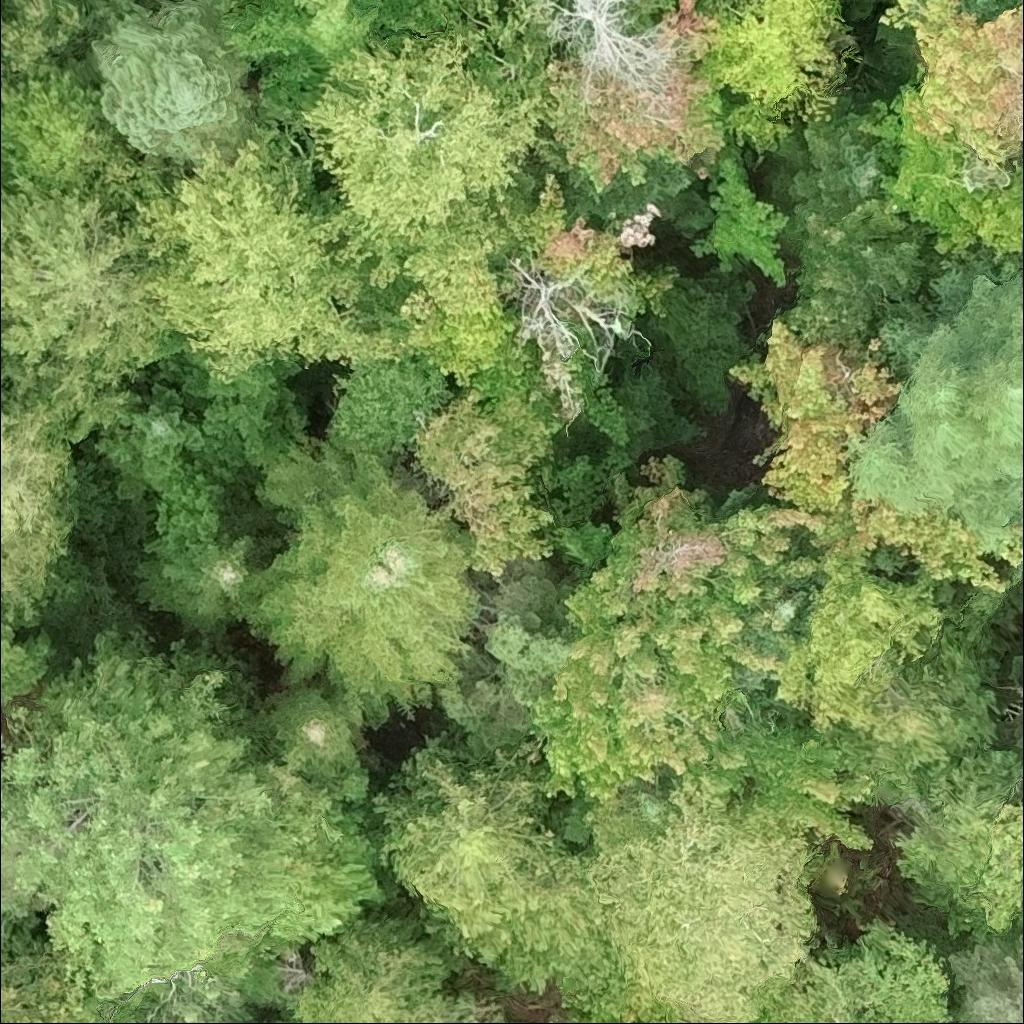crown: (0, 624, 399, 1001), (523, 450, 820, 808), (131, 122, 410, 384), (241, 438, 483, 732), (301, 29, 544, 312), (584, 767, 819, 1023), (843, 247, 1023, 561), (0, 161, 180, 449), (516, 0, 728, 197), (367, 728, 563, 939), (731, 318, 900, 517), (760, 566, 944, 743), (89, 0, 276, 172), (230, 0, 468, 129), (857, 93, 1023, 271), (411, 384, 561, 577), (766, 199, 935, 362), (502, 171, 681, 316), (703, 0, 858, 160), (873, 0, 1023, 165), (757, 916, 958, 1023), (787, 497, 1006, 591), (0, 386, 83, 630), (734, 715, 879, 854), (283, 910, 453, 1023), (762, 97, 895, 217), (0, 52, 117, 188), (689, 146, 793, 288), (92, 381, 205, 508), (134, 531, 261, 637), (405, 280, 518, 394), (248, 683, 368, 788), (553, 0, 674, 88), (950, 793, 1023, 936), (651, 270, 756, 359), (616, 352, 706, 448), (942, 933, 1023, 1023), (0, 0, 89, 80), (672, 345, 756, 412), (0, 619, 61, 708), (0, 981, 100, 1023), (403, 988, 510, 1023), (478, 608, 534, 669), (628, 0, 677, 25), (960, 0, 1010, 23), (706, 0, 738, 20), (1009, 649, 1023, 694), (873, 0, 896, 21), (1013, 718, 1023, 747), (1015, 909, 1023, 936)
